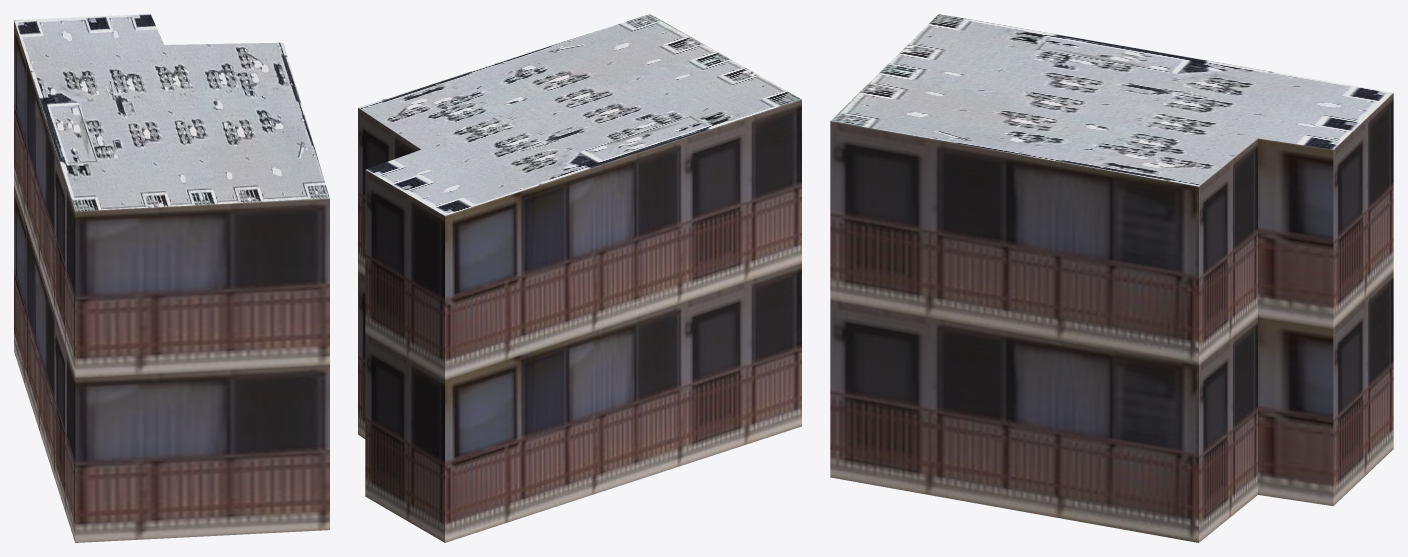
File: ResTex__2238.fbx
The picture shows the model from 3 angles, left to right: view 1: azimuth 30°, elevation 25°; view 2: azimuth 150°, elevation 25°; view 3: azimuth 270°, elevation 25°; orthographic projection. The views are drawn at different scales.
Parts seen in each view (by area): view 1: CityEngineMaterial_6_m, CityEngineMaterial_m; view 2: CityEngineMaterial_6_m, CityEngineMaterial_m; view 3: CityEngineMaterial_6_m, CityEngineMaterial_m.
Boxes of the visible parts, x1,y1,x2,y2 form: CityEngineMaterial_6_m: [14, 20, 329, 542]; CityEngineMaterial_m: [14, 14, 329, 211]; CityEngineMaterial_6_m: [358, 99, 801, 542]; CityEngineMaterial_m: [358, 14, 801, 215]; CityEngineMaterial_6_m: [830, 93, 1393, 542]; CityEngineMaterial_m: [831, 14, 1392, 186].
Bounding box in the file's own units: 6.23 × 6 × 8.59.
Materials: 2 (2 with a texture image).
